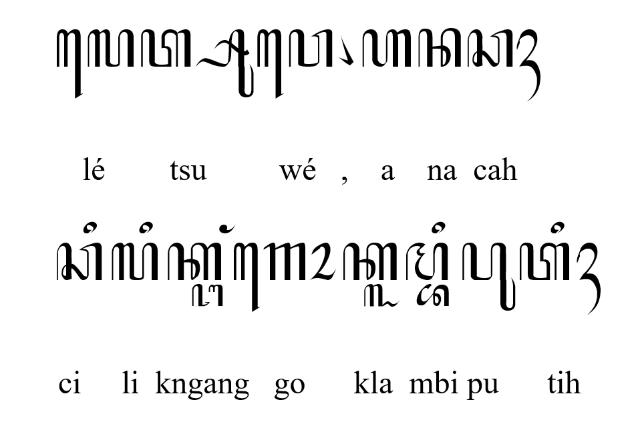_b: (416, 284, 449, 307)
_h1: (577, 243, 601, 316), (516, 29, 540, 101)
_l: (364, 284, 401, 308)
_su: (196, 28, 254, 98)
c: (467, 28, 513, 68), (56, 242, 102, 282)
e1: (56, 28, 84, 100), (256, 29, 284, 99), (232, 242, 260, 312)
g: (264, 243, 306, 281)
h: (362, 29, 412, 67)
i: (139, 222, 153, 234), (431, 222, 445, 234), (551, 222, 565, 234), (84, 222, 96, 234)
k: (168, 243, 222, 281), (343, 243, 397, 281)
kom: (338, 35, 354, 65)
l: (88, 29, 134, 67), (112, 242, 158, 280)
m: (406, 243, 448, 281)
n: (418, 27, 462, 67)
ng: (220, 226, 236, 234)
nga: (192, 284, 224, 308)
o: (309, 243, 336, 281)
pu: (462, 242, 516, 312)
t: (140, 29, 192, 67), (520, 243, 570, 281)
w: (289, 29, 333, 67)
